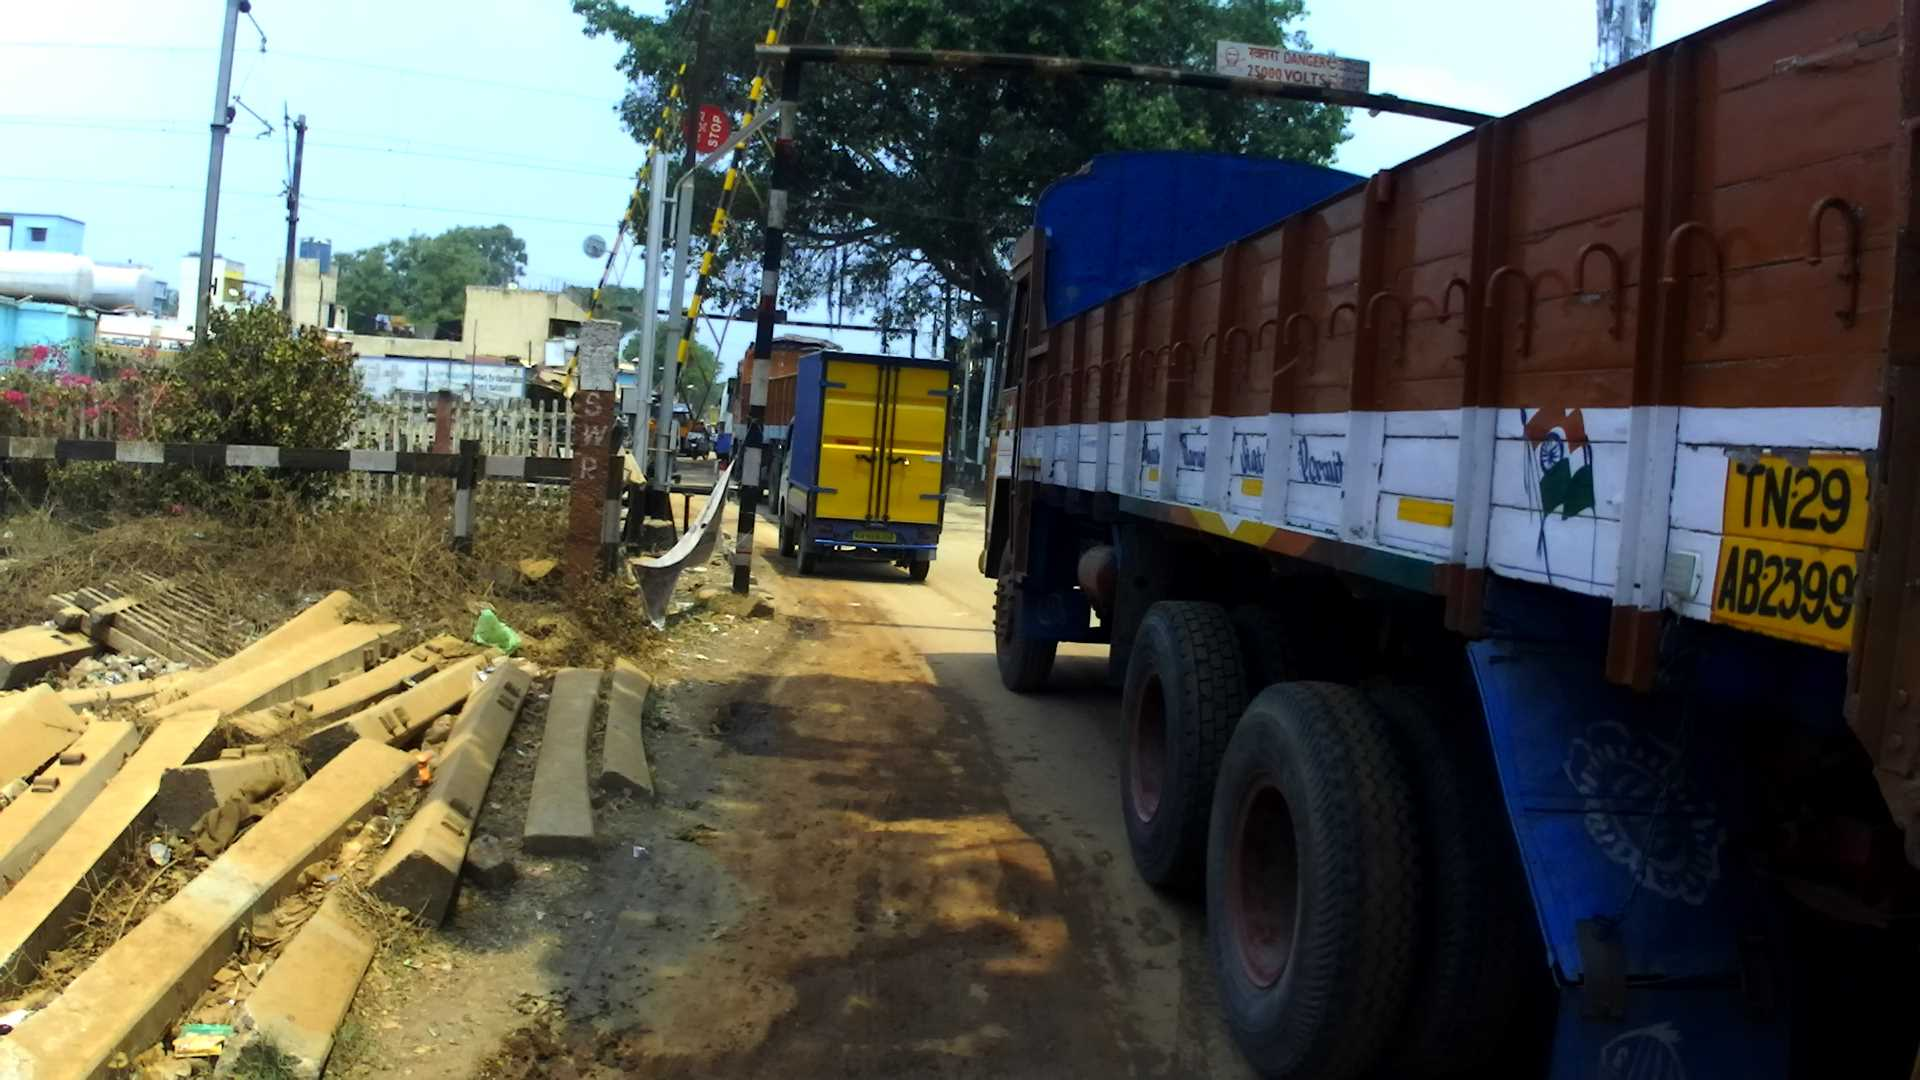bike: (692, 405, 713, 469)
truck: (980, 69, 1920, 1080), (773, 342, 982, 597), (723, 320, 827, 516)
